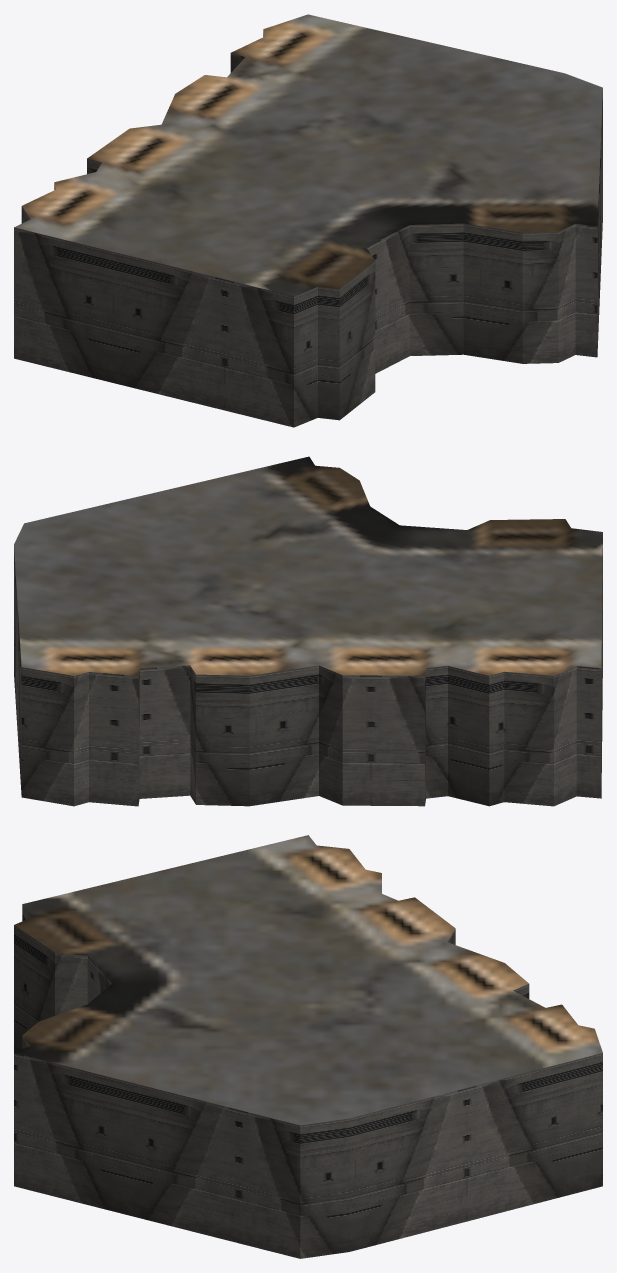
File: fortress_light_a_22.glb
3 views of the same model, one above another, from view 1: azimuth 30°, elevation 25°; view 2: azimuth 150°, elevation 25°; view 3: azimuth 270°, elevation 25° (orthographic). The views are drawn at different scales.
Visible parts, largest first — view 1: buildings/saxarba/fortress_light/fortress_light_a_22; view 2: buildings/saxarba/fortress_light/fortress_light_a_22; view 3: buildings/saxarba/fortress_light/fortress_light_a_22.
Part boxes in pixels (box(x1,y1,x2,y2)): buildings/saxarba/fortress_light/fortress_light_a_22: box(14, 14, 602, 427); buildings/saxarba/fortress_light/fortress_light_a_22: box(14, 456, 602, 806); buildings/saxarba/fortress_light/fortress_light_a_22: box(14, 835, 602, 1258).
Bounding box in the file's own units: 84 × 18 × 72.
